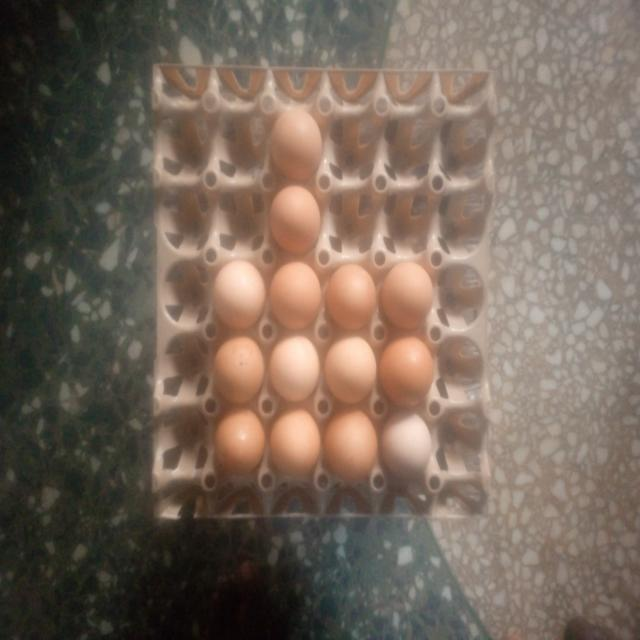Eggs: (264, 100, 325, 180), (267, 184, 328, 256), (213, 410, 267, 487), (324, 336, 379, 409), (214, 261, 269, 331), (271, 413, 323, 487), (381, 262, 434, 332), (383, 339, 439, 405), (211, 339, 265, 406), (384, 416, 434, 488), (269, 339, 320, 405), (328, 417, 378, 484), (276, 262, 323, 330), (332, 265, 378, 330)
